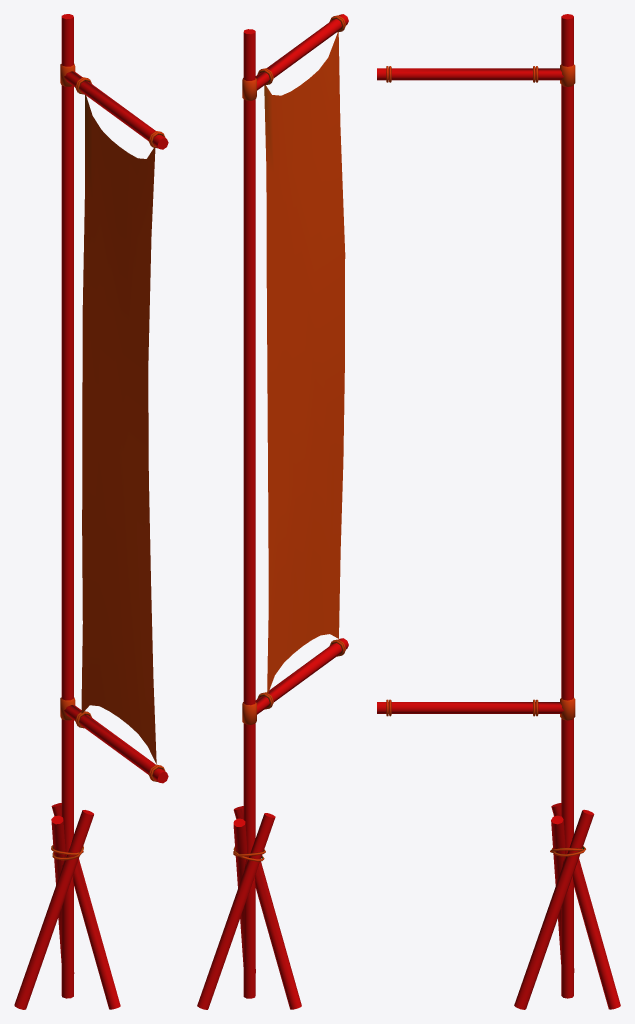
Rendered from KB3D_GAE_Flag_E.glb.
3 views of the same model, side by side, from view 1: azimuth 30°, elevation 25°; view 2: azimuth 150°, elevation 25°; view 3: azimuth 270°, elevation 25° (orthographic).
Visible parts, largest first — view 1: L0; view 2: L0; view 3: L0.
Boxes of the visible parts, left/top/right/bottom form: L0: left=14, top=14, right=168, bottom=1009; L0: left=197, top=14, right=348, bottom=1009; L0: left=377, top=14, right=620, bottom=1009.
Bounding box in the file's own units: 0.7444 × 8.52 × 1.92.
